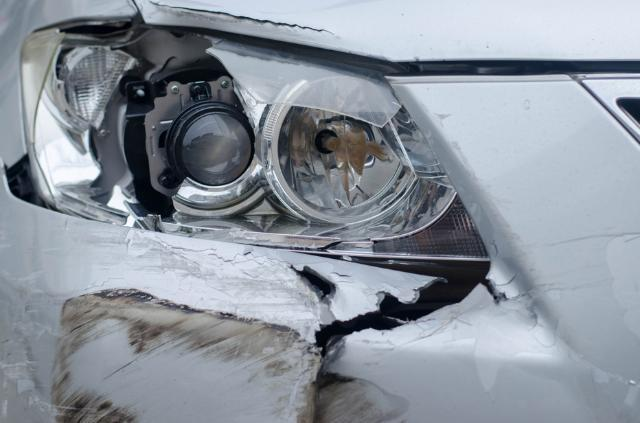Bumper: (0, 205, 640, 423)
Light: (2, 25, 496, 273)
